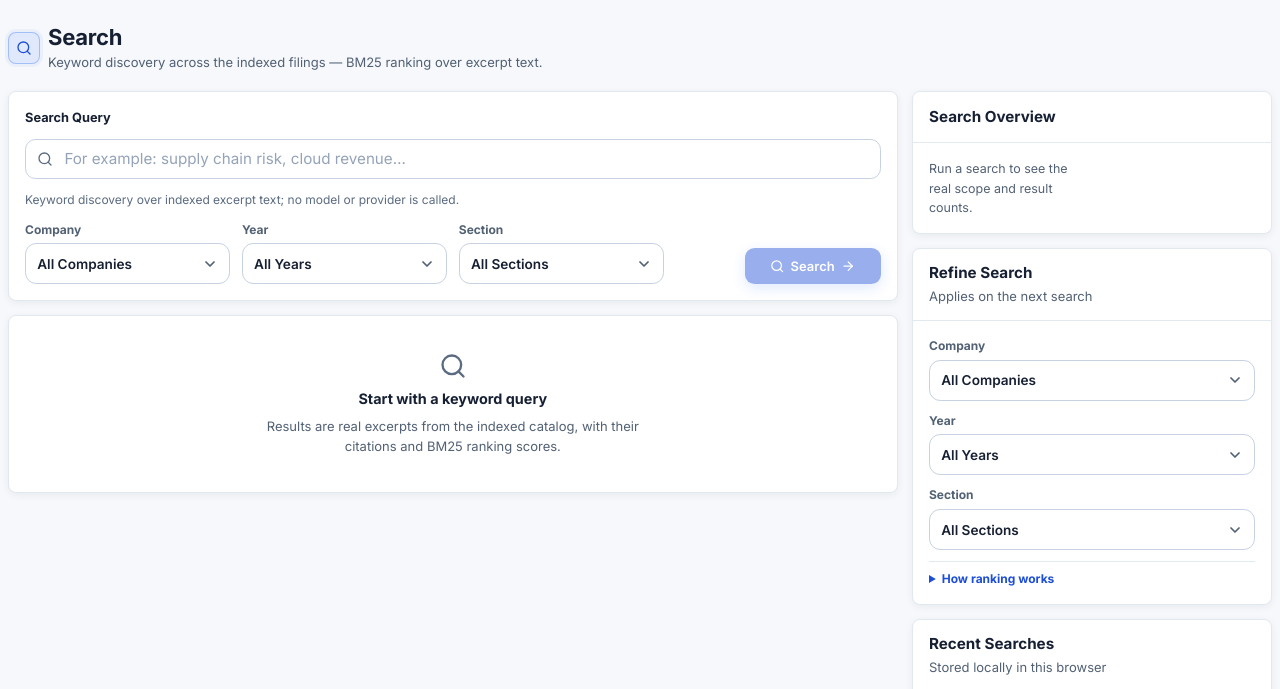
Scenario: DiscoverySearchPage › renders a legitimate no-match snapshot without sample results
Type "zzqqxx nonexistentterm" into the field labelled "Search Query" at (453, 159), box [25,139,881,179]
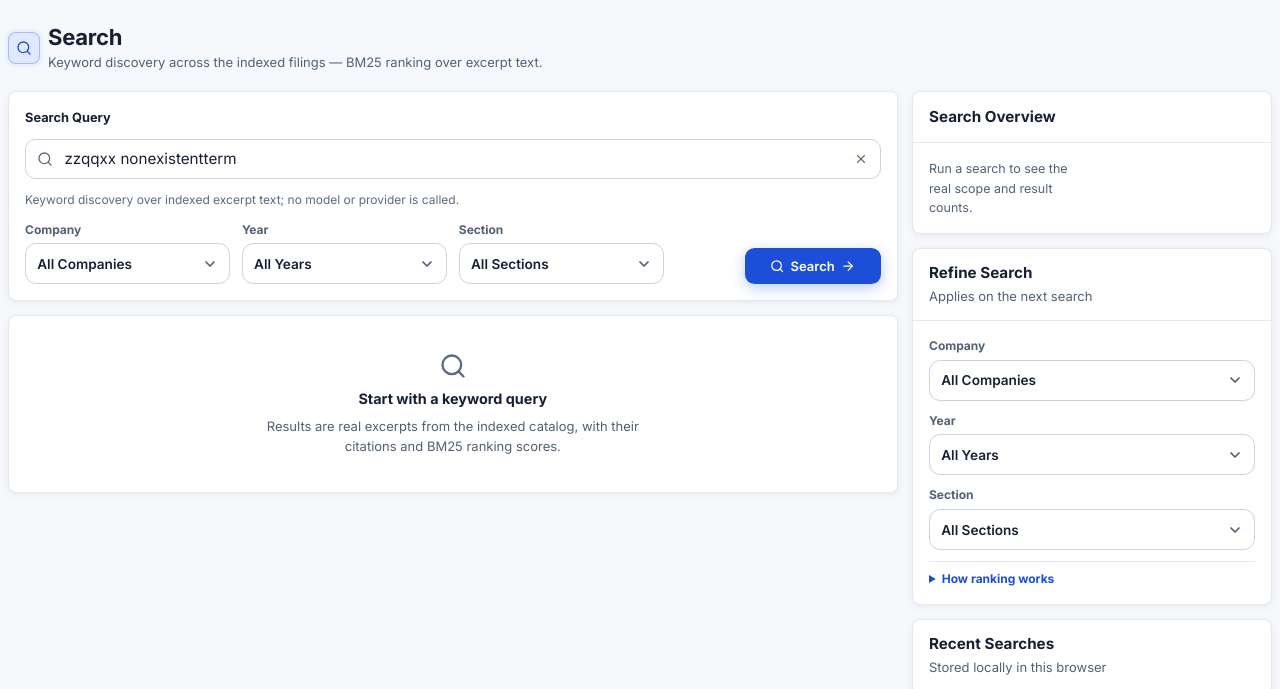
Click the button "Search" at (813, 266), box [745,248,881,284]
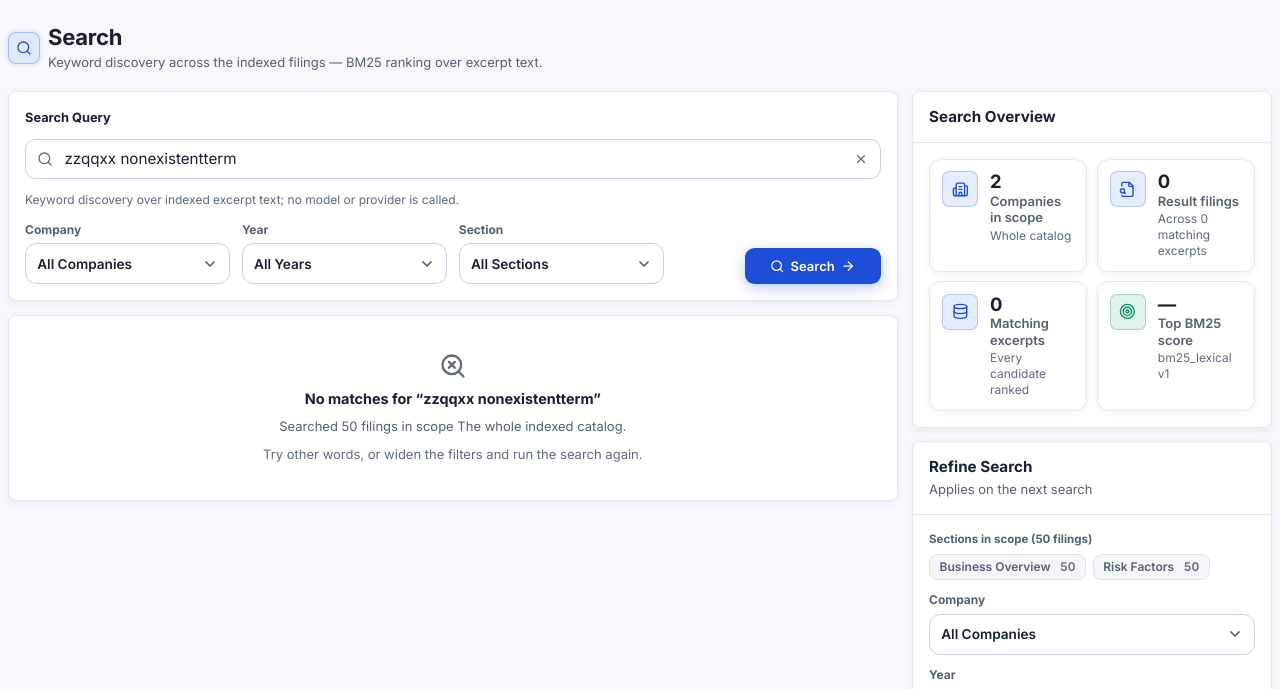
expect the text "No matches for “zzqqxx nonexistentterm”" is shown: met, box [305,388,601,409]
expect the text "Searched 50 filings in scope The whole indexed catalog." is shown: met, box [279,417,626,437]
